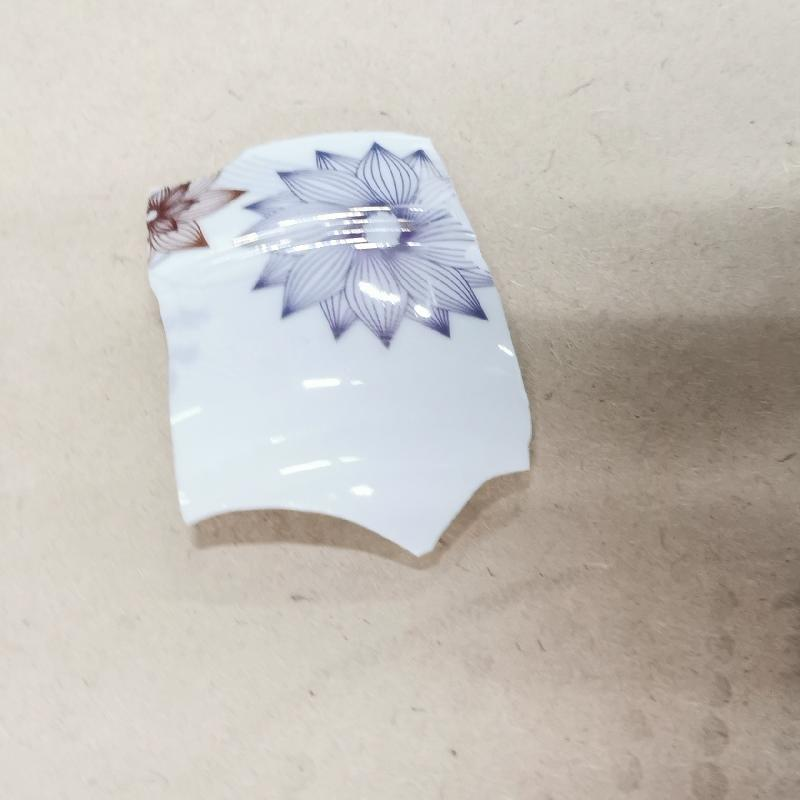ceram: (120, 122, 556, 561)
